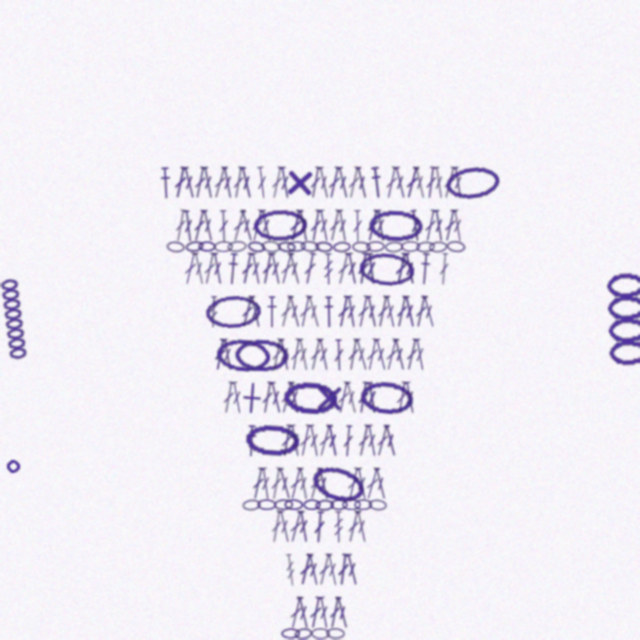chain: (308, 461, 369, 507), (444, 164, 502, 202), (359, 379, 415, 416), (358, 251, 415, 287), (215, 337, 271, 373), (244, 423, 300, 458), (282, 380, 338, 415), (205, 294, 261, 329), (234, 338, 290, 372), (368, 209, 424, 243), (253, 209, 308, 242), (247, 240, 266, 254), (227, 240, 247, 253), (261, 240, 281, 253), (300, 240, 320, 253), (446, 240, 466, 253), (294, 627, 313, 640), (185, 240, 204, 253), (242, 499, 261, 511), (315, 499, 334, 511), (368, 499, 387, 511), (166, 241, 185, 253), (277, 241, 296, 253), (352, 241, 371, 253), (416, 241, 435, 253), (315, 241, 333, 253), (333, 241, 351, 253), (385, 241, 403, 253), (429, 241, 447, 253), (281, 628, 300, 639), (311, 628, 330, 639), (326, 628, 345, 639), (257, 499, 276, 510), (274, 499, 293, 510), (284, 499, 303, 510), (342, 499, 361, 510), (214, 241, 233, 252), (287, 241, 306, 252), (366, 241, 385, 252), (401, 241, 420, 252), (303, 499, 321, 510), (330, 499, 348, 510), (354, 499, 372, 510), (198, 241, 216, 252)
double: (363, 467, 382, 500), (352, 338, 371, 371), (287, 596, 305, 629), (297, 553, 315, 586), (343, 553, 361, 586), (287, 510, 305, 543), (276, 467, 294, 500), (287, 467, 305, 500), (307, 467, 325, 500), (316, 424, 334, 457), (267, 381, 285, 414), (278, 381, 296, 414), (372, 338, 390, 371), (383, 338, 401, 371), (305, 295, 323, 328), (420, 295, 438, 328), (278, 252, 296, 285), (230, 209, 248, 242), (238, 209, 256, 242), (364, 209, 382, 242), (180, 166, 198, 199), (211, 166, 229, 199), (391, 166, 409, 199), (403, 166, 421, 199), (295, 596, 312, 629), (307, 596, 324, 629), (334, 596, 351, 629), (305, 553, 322, 586), (316, 553, 333, 586), (324, 553, 341, 586), (276, 510, 293, 543), (345, 510, 362, 543), (353, 510, 370, 543), (315, 467, 332, 500), (345, 467, 362, 500), (372, 467, 389, 500), (297, 424, 314, 457), (324, 424, 341, 457), (374, 424, 391, 457), (382, 424, 399, 457), (286, 381, 303, 414), (335, 381, 352, 414), (343, 381, 360, 414), (276, 338, 293, 371), (315, 338, 332, 371), (364, 338, 381, 371), (391, 338, 408, 371), (239, 295, 256, 328), (247, 295, 264, 328), (278, 295, 295, 328), (286, 295, 303, 328), (297, 295, 314, 328), (335, 295, 352, 328), (355, 295, 372, 328), (382, 295, 399, 328), (401, 295, 418, 328), (182, 252, 199, 285), (201, 252, 218, 285), (239, 252, 256, 285), (267, 252, 284, 285), (286, 252, 303, 285), (335, 252, 352, 285), (393, 252, 410, 285), (401, 252, 418, 285), (191, 209, 208, 242), (249, 209, 266, 242), (287, 209, 304, 242), (422, 209, 439, 242), (172, 166, 189, 199), (238, 166, 255, 199), (326, 166, 343, 199), (383, 166, 400, 199), (441, 166, 458, 199), (316, 596, 332, 629), (327, 596, 343, 629), (250, 467, 266, 500), (354, 467, 370, 500), (279, 424, 295, 457), (287, 424, 303, 457), (306, 424, 322, 457), (356, 424, 372, 457), (364, 424, 380, 457), (229, 381, 245, 414), (364, 381, 380, 414), (394, 381, 410, 414), (402, 381, 418, 414), (212, 338, 228, 371), (269, 338, 285, 371), (288, 338, 304, 371), (308, 338, 324, 371), (404, 338, 420, 371), (412, 338, 428, 371), (364, 295, 380, 328), (375, 295, 391, 328), (394, 295, 410, 328), (413, 295, 429, 328), (191, 252, 207, 285), (248, 252, 264, 285), (302, 252, 318, 285), (344, 252, 360, 285), (200, 209, 216, 242), (258, 209, 274, 242), (308, 209, 324, 242), (316, 209, 332, 242), (327, 209, 343, 242), (442, 209, 458, 242), (192, 166, 208, 199), (200, 166, 216, 199), (269, 166, 285, 199), (277, 166, 293, 199), (316, 166, 332, 199), (335, 166, 351, 199), (346, 166, 362, 199), (354, 166, 370, 199), (412, 166, 428, 199), (336, 553, 351, 586), (269, 510, 284, 543), (296, 510, 311, 543), (258, 467, 273, 500), (269, 467, 284, 500), (296, 467, 311, 500), (221, 381, 236, 414), (260, 381, 275, 414), (356, 381, 371, 414), (220, 338, 235, 371), (296, 338, 311, 371), (346, 338, 361, 371), (344, 295, 359, 328), (210, 252, 225, 285), (260, 252, 275, 285), (356, 252, 371, 285), (364, 252, 379, 285), (173, 209, 188, 242), (296, 209, 311, 242), (335, 209, 350, 242), (373, 209, 388, 242), (408, 209, 423, 242), (450, 209, 465, 242), (220, 166, 235, 199), (231, 166, 246, 199), (308, 166, 323, 199), (432, 209, 446, 242), (255, 166, 269, 199), (424, 166, 438, 199), (432, 166, 446, 199), (451, 166, 465, 199), (313, 511, 326, 543), (182, 210, 195, 242), (342, 425, 354, 457), (333, 339, 345, 371), (438, 253, 450, 285), (218, 210, 229, 242), (352, 210, 363, 242)
enseble_chain: (603, 272, 640, 368), (0, 278, 29, 361)
half_double: (369, 166, 384, 199), (226, 253, 240, 285), (418, 253, 432, 285), (245, 425, 258, 457), (159, 167, 172, 199), (266, 296, 278, 328), (323, 296, 335, 328)
noise: (5, 458, 21, 474)
single: (235, 381, 269, 415), (283, 166, 316, 199), (313, 382, 345, 414)
treble: (284, 554, 297, 586), (333, 511, 344, 543), (208, 296, 219, 328), (323, 253, 334, 285)
